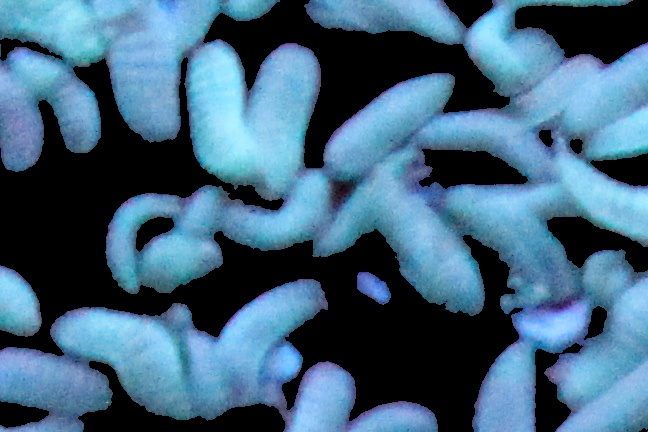larvae: (52, 311, 190, 415), (326, 69, 453, 178), (547, 274, 648, 409), (447, 184, 571, 289), (379, 192, 486, 313), (223, 281, 325, 402), (314, 149, 421, 258), (245, 47, 321, 195), (184, 42, 262, 186), (101, 1, 181, 140), (8, 49, 103, 152), (417, 110, 552, 181), (554, 144, 648, 244), (1, 346, 119, 415), (105, 193, 183, 294), (226, 172, 325, 251), (565, 46, 648, 137), (508, 53, 600, 128), (550, 364, 648, 432), (469, 343, 540, 432), (1, 1, 104, 59), (286, 357, 358, 432), (462, 9, 529, 88), (1, 66, 47, 174), (176, 329, 231, 416), (143, 238, 223, 295), (348, 392, 444, 432), (1, 264, 50, 342), (581, 105, 648, 159), (180, 182, 225, 239)
